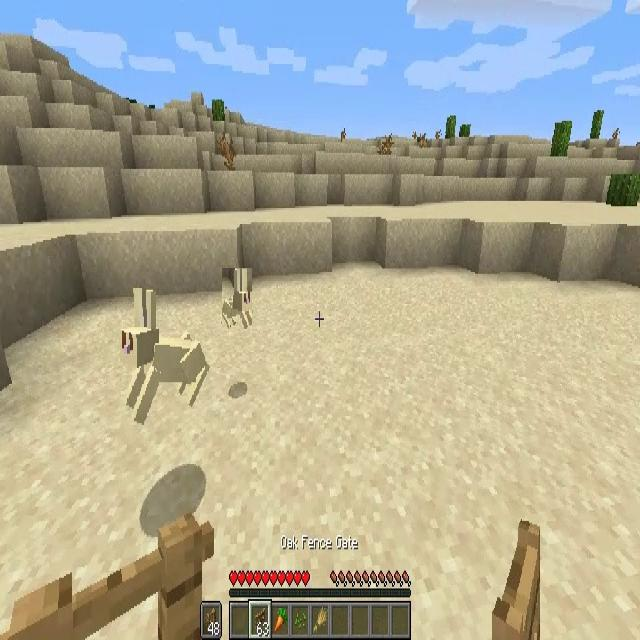rabbit: (121, 293, 203, 424), (222, 268, 252, 336)
